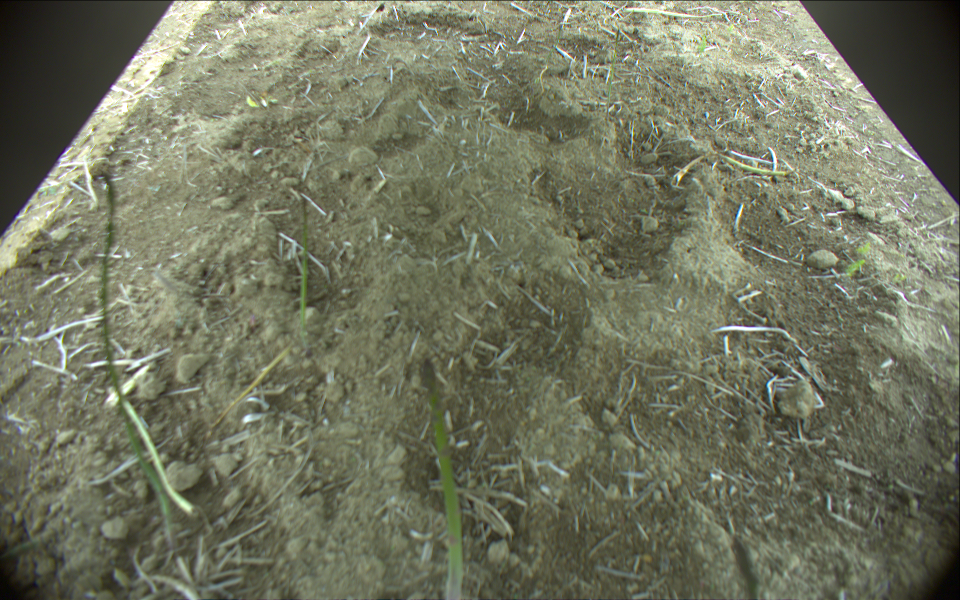aspa: (96, 171, 181, 522), (111, 383, 196, 516), (421, 355, 466, 600), (670, 150, 797, 187), (298, 180, 310, 330), (620, 6, 729, 19)
